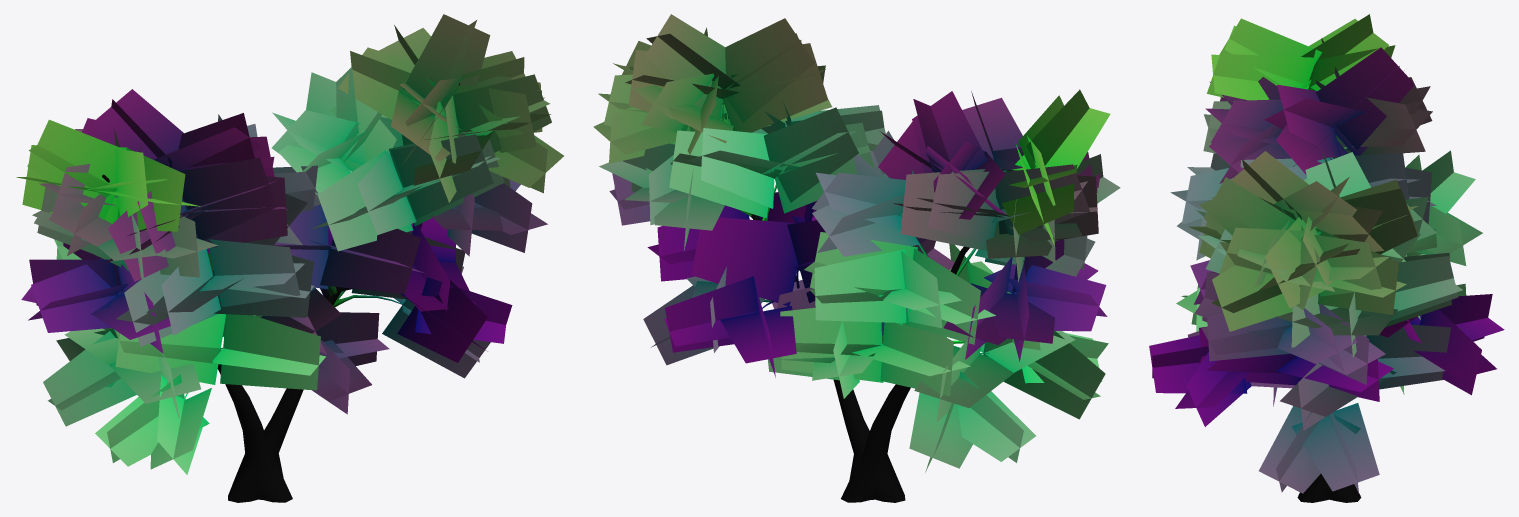
File: Tree_4_4.fbx
3 views of the same model, side by side, from view 1: azimuth 30°, elevation 25°; view 2: azimuth 150°, elevation 25°; view 3: azimuth 270°, elevation 25° (orthographic). The views are drawn at different scales.
Visible parts, largest first — view 1: _4; view 2: _4; view 3: _4.
Part boxes in pixels (bbox=[...]): _4: bbox=[16, 14, 563, 502]; _4: bbox=[593, 14, 1120, 502]; _4: bbox=[1149, 14, 1504, 502].
Bounding box in the file's own units: 2705 × 2236 × 1752.
